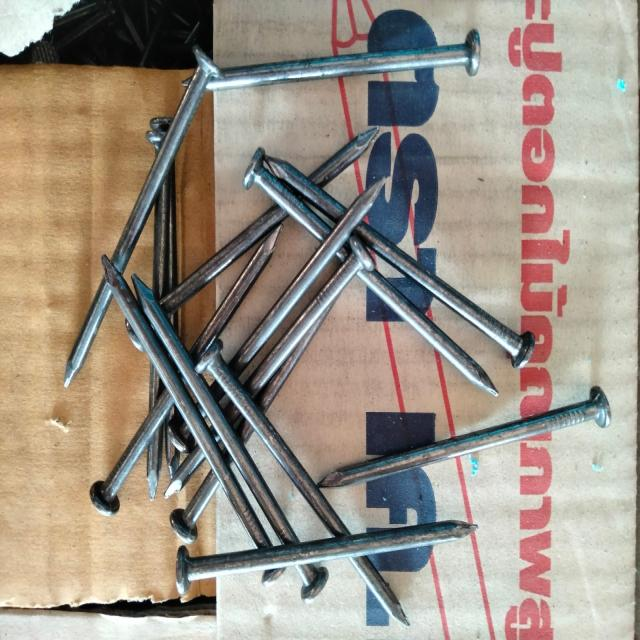3x8 nail: (230, 125, 566, 403), (51, 40, 234, 393), (309, 377, 619, 515), (165, 514, 505, 610)
